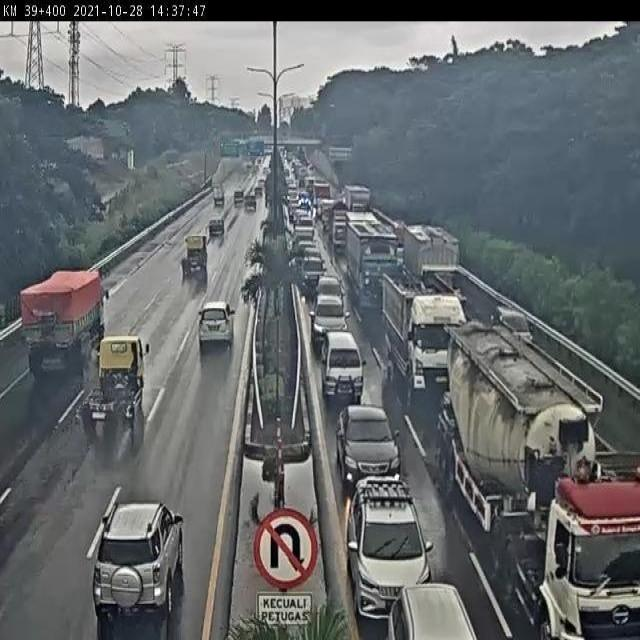Car: (346, 473, 434, 622), (91, 499, 184, 624), (335, 402, 402, 490), (387, 582, 480, 640), (310, 292, 352, 353), (197, 301, 234, 352), (489, 304, 534, 344), (310, 273, 348, 311), (300, 260, 329, 288), (301, 246, 325, 266), (207, 216, 225, 238), (233, 190, 244, 206), (254, 187, 263, 198), (257, 179, 265, 189)
Truck: (437, 316, 640, 639), (380, 266, 470, 401), (19, 269, 110, 380), (80, 333, 150, 434), (344, 220, 408, 310), (402, 221, 464, 294), (343, 210, 381, 273), (180, 233, 209, 280), (342, 183, 372, 211), (332, 216, 351, 250), (328, 200, 348, 230), (320, 200, 338, 232), (212, 184, 225, 207)
Van: (320, 330, 368, 406)
